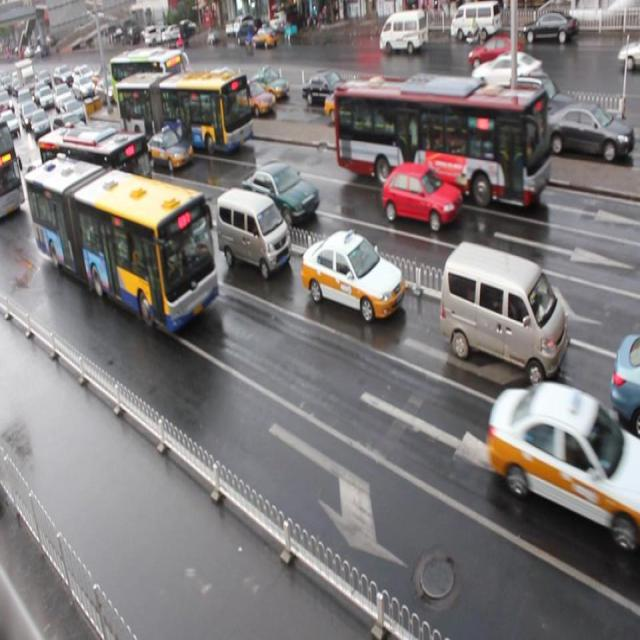car: (486, 381, 640, 540), (300, 228, 404, 321), (381, 160, 462, 232), (240, 159, 319, 227), (141, 185, 208, 250), (146, 127, 193, 169)
truck: (440, 240, 568, 386), (216, 186, 292, 276)
van: (23, 156, 219, 334), (333, 76, 549, 208), (38, 121, 156, 232), (117, 71, 252, 151)
